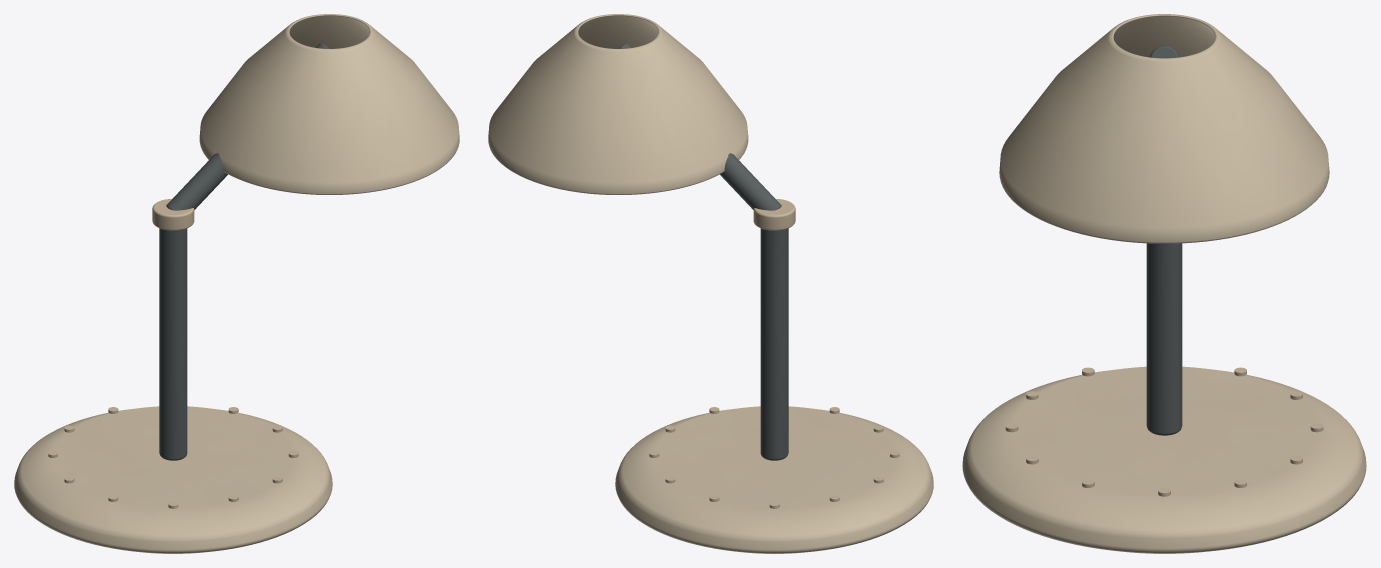
3 views of the same model, side by side, from view 1: azimuth 30°, elevation 25°; view 2: azimuth 150°, elevation 25°; view 3: azimuth 270°, elevation 25° (orthographic). The views are drawn at different scales.
Parts seen in each view (by area): view 1: weighted-base, enameled-shade, lower-arm, upper-arm, joint-cover; view 2: weighted-base, enameled-shade, lower-arm, upper-arm, joint-cover; view 3: weighted-base, enameled-shade, lower-arm.
Part boxes in pixels (x1,y1,x2,y2): weighted-base: (14,406,332,553); enameled-shade: (199,14,459,194); lower-arm: (159,228,187,460); upper-arm: (166,43,329,210); joint-cover: (152,199,194,230); weighted-base: (615,406,933,553); enameled-shade: (488,14,748,194); lower-arm: (760,228,788,460); upper-arm: (618,43,781,210); joint-cover: (753,199,795,230); weighted-base: (962,366,1366,553); enameled-shade: (999,14,1329,243); lower-arm: (1146,243,1182,435).
Bounding box in the file's own units: 0.4687 × 0.47 × 0.3178.
3 materials, 3 textured.
